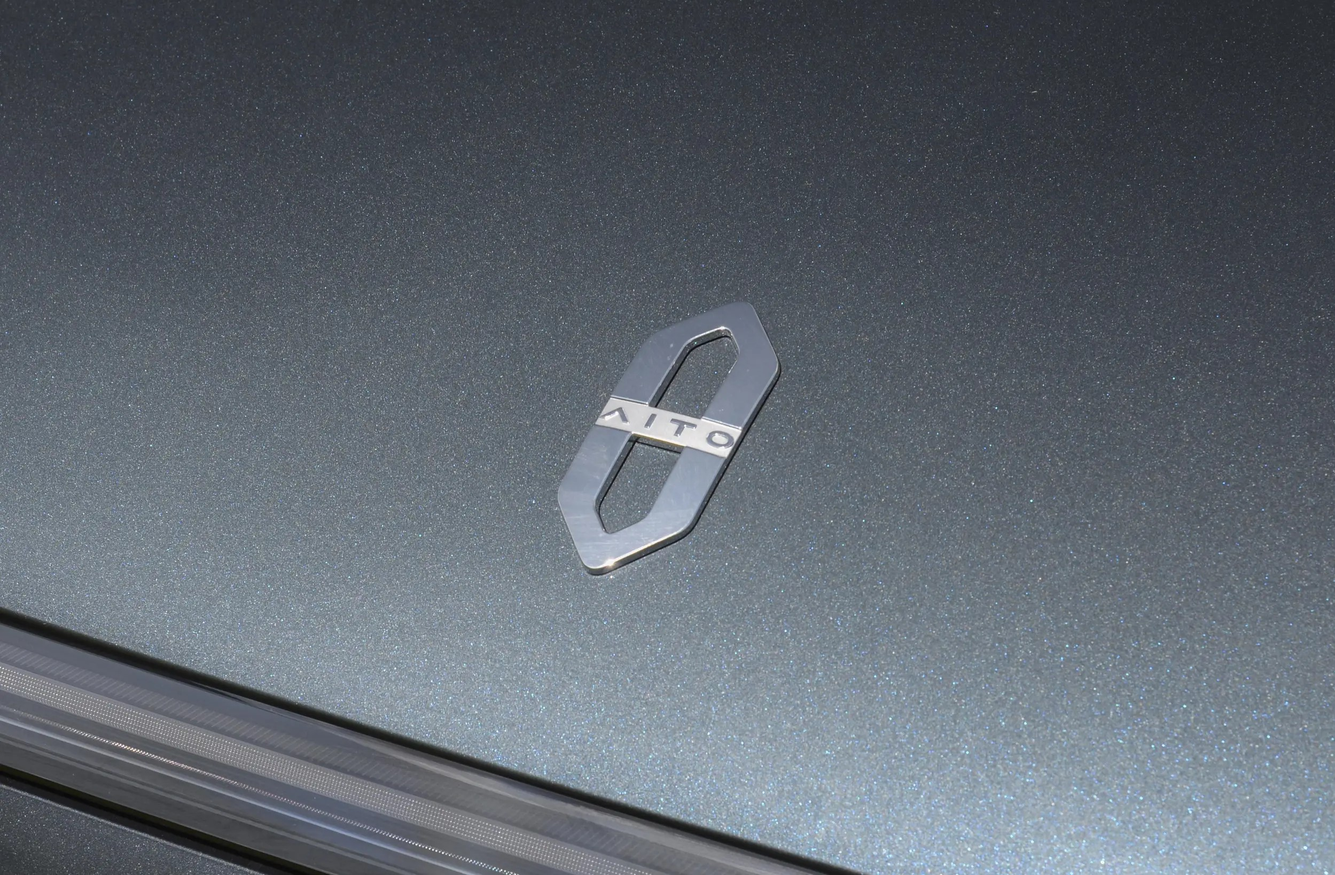AITO: (558, 302, 781, 574)
